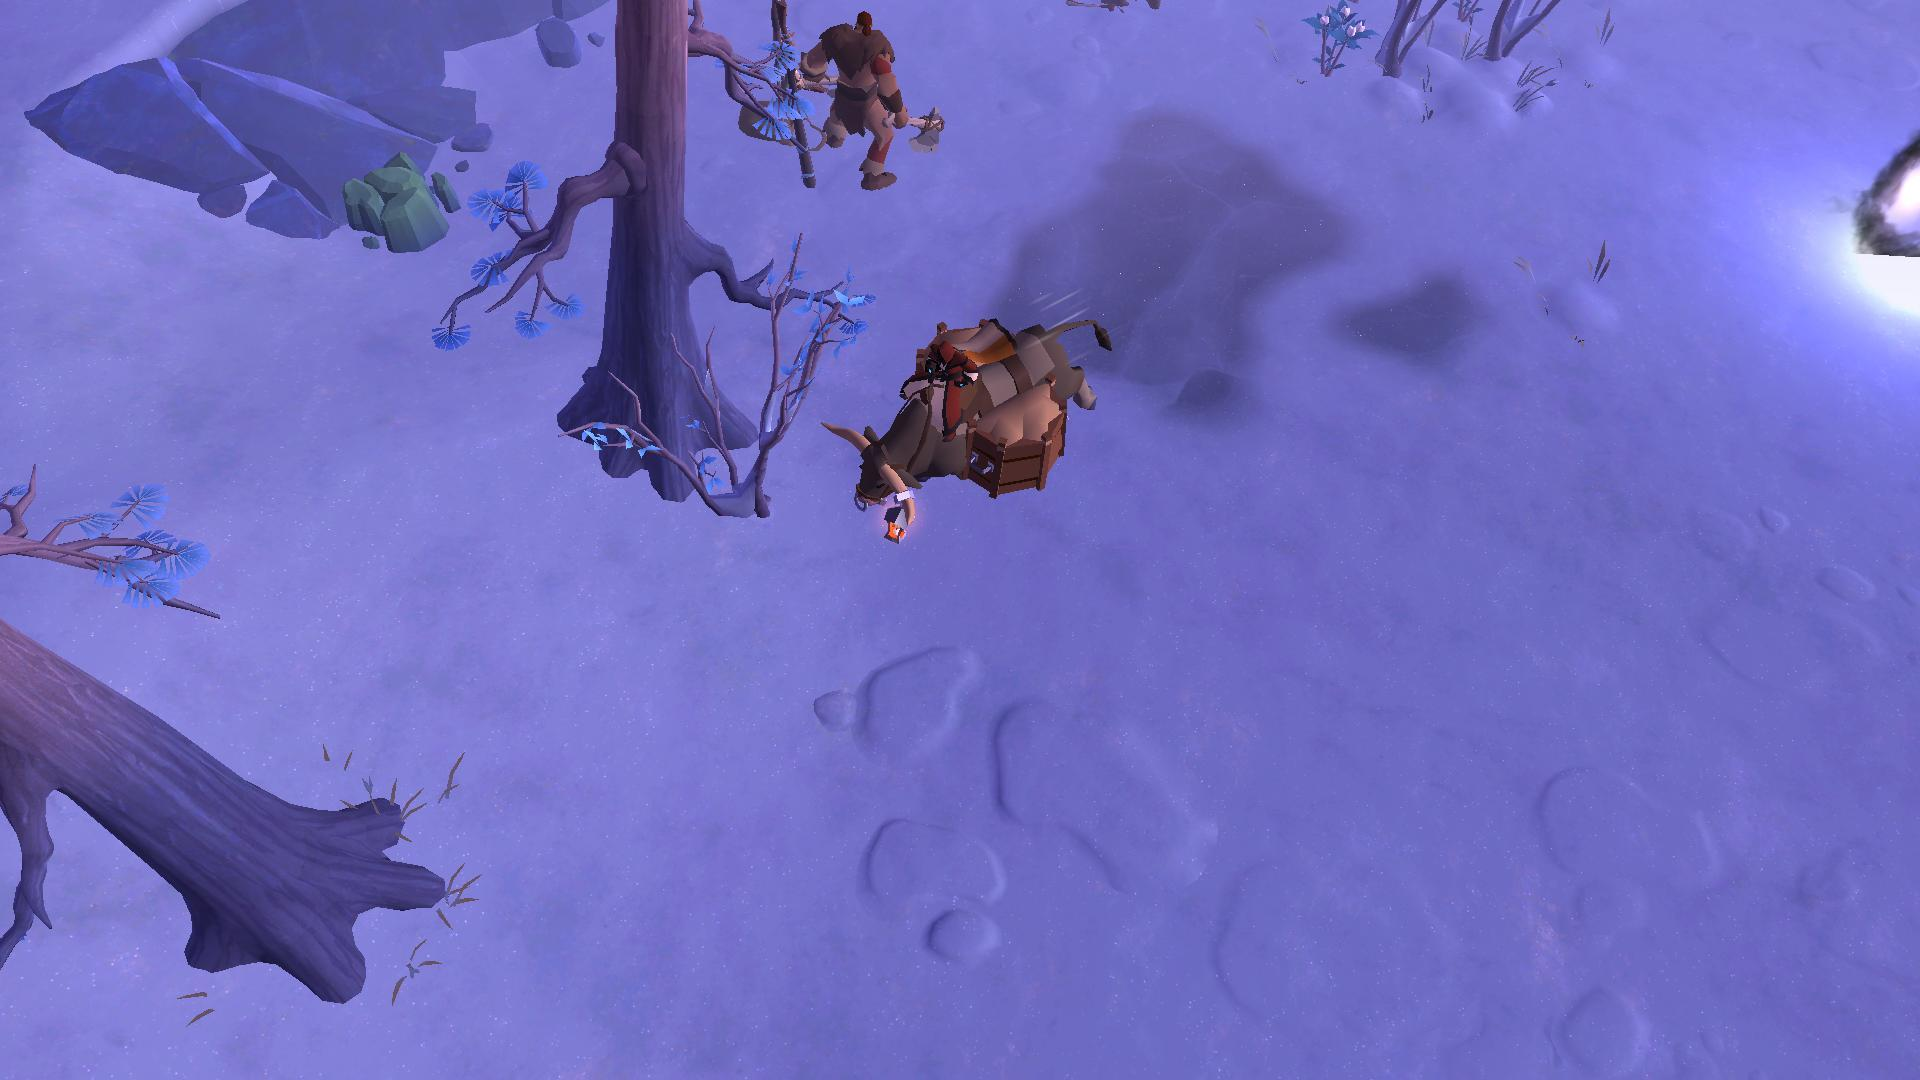enemy_factionKeeper: (793, 11, 943, 199)
fiber_t4: (1296, 0, 1371, 74)
rock_t3: (332, 148, 462, 260)
